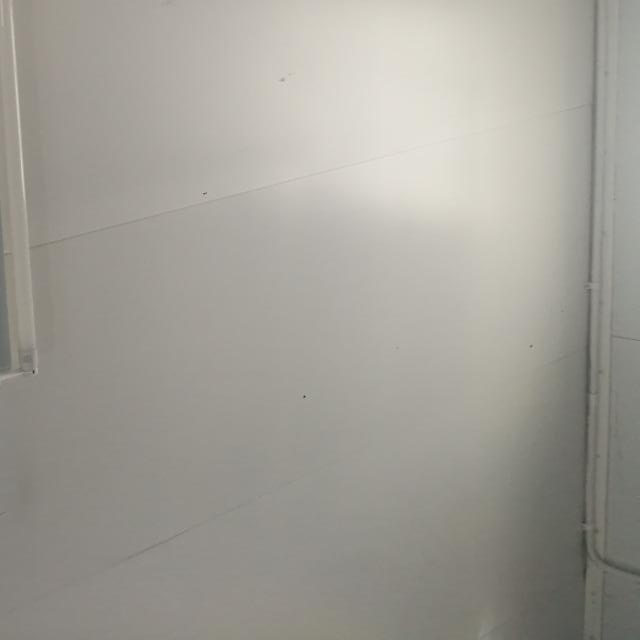fluorescent tube: (0, 0, 84, 397)
